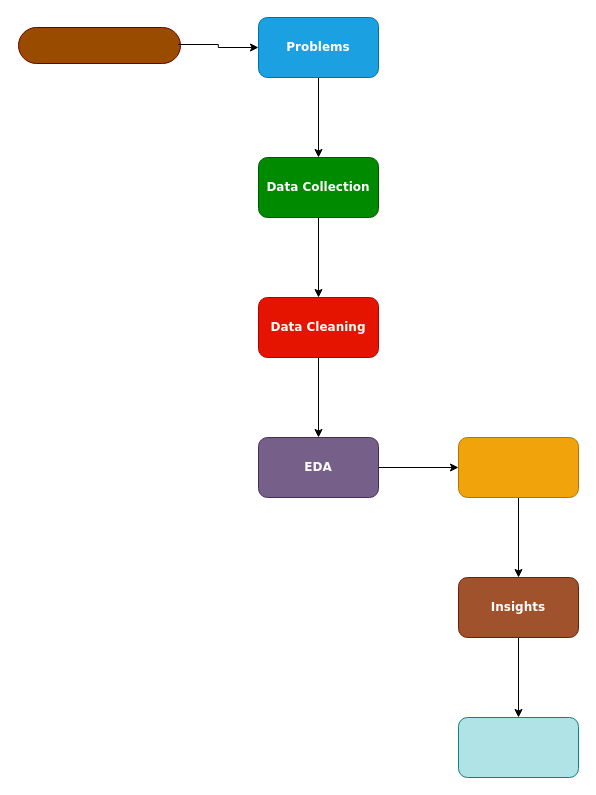
The diagram is 596 pixels wide and 795 high, and some of its shapes have lost their labels. Each missing label, with the centre of its shape:
"Dashboard" belongs at point (518, 747).
"Data Analysis" belongs at point (99, 45).
"Visualization" belongs at point (518, 467).
